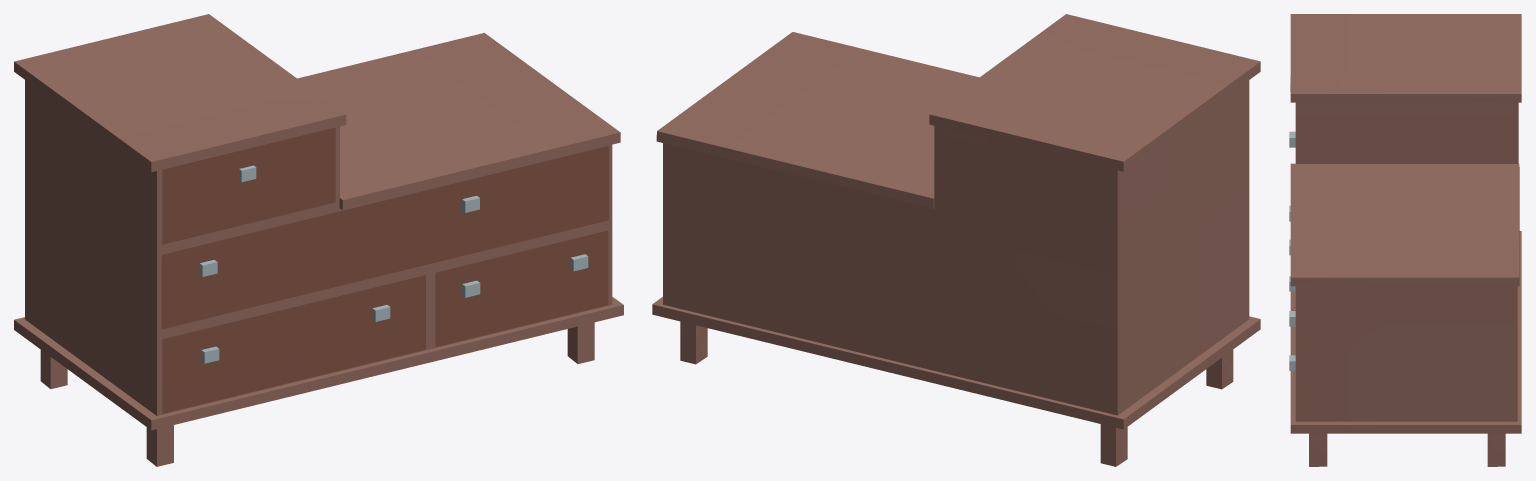
File: shelf_038.glb
3 renders of one model, left to right at view 1: azimuth 30°, elevation 25°; view 2: azimuth 150°, elevation 25°; view 3: azimuth 270°, elevation 25°, orthographic. The views are drawn at different scales.
Parts seen in each view (by area): view 1: shelf_038; view 2: shelf_038; view 3: shelf_038.
Part boxes in pixels (box(x1,y1,x2,y2)): shelf_038: box(14, 14, 623, 466); shelf_038: box(652, 14, 1260, 466); shelf_038: box(1289, 14, 1521, 466).
Size of the model in its own units: 1.04 by 0.6647 by 0.525.
Materials: 1 (1 with a texture image).
